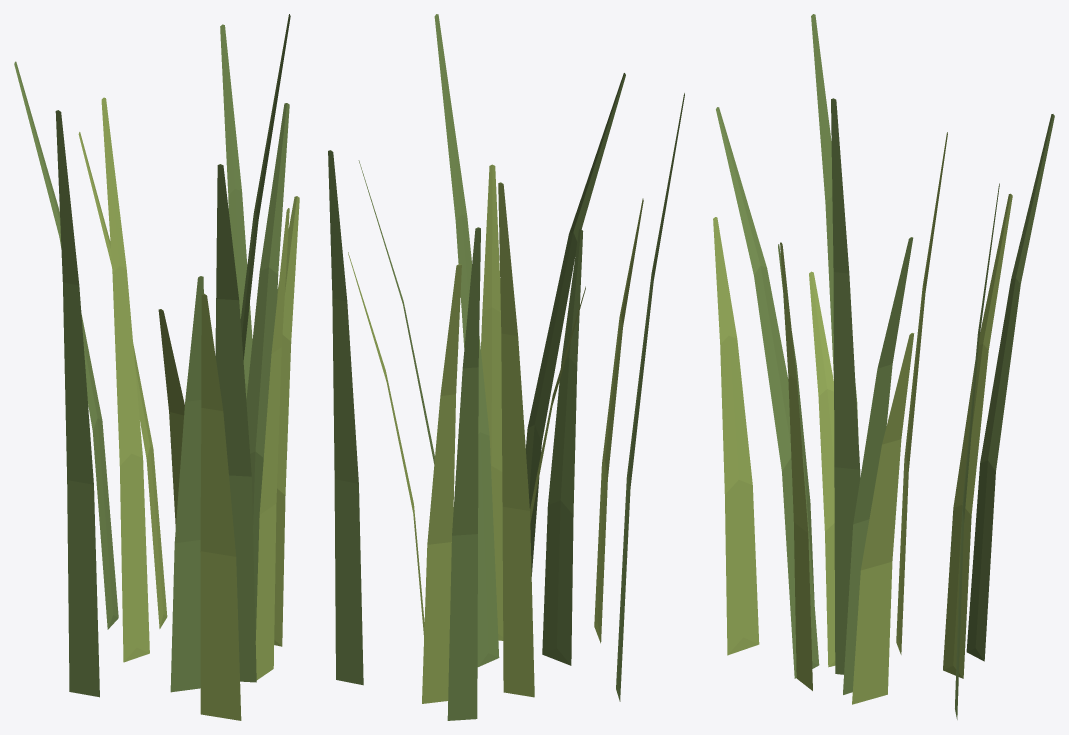
File: sedge_b.glb
The picture shows the model from 3 angles, left to right: view 1: azimuth 30°, elevation 25°; view 2: azimuth 150°, elevation 25°; view 3: azimuth 270°, elevation 25°; orthographic projection. The views are drawn at different scales.
Visible parts, largest first — view 1: SedgeB; view 2: SedgeB; view 3: SedgeB.
Part boxes in pixels (bbox=[...]): SedgeB: bbox=[14, 14, 299, 720]; SedgeB: bbox=[328, 14, 684, 720]; SedgeB: bbox=[713, 14, 1054, 719].
Bounding box in the file's own units: 0.4177 × 0.8697 × 0.4449.
